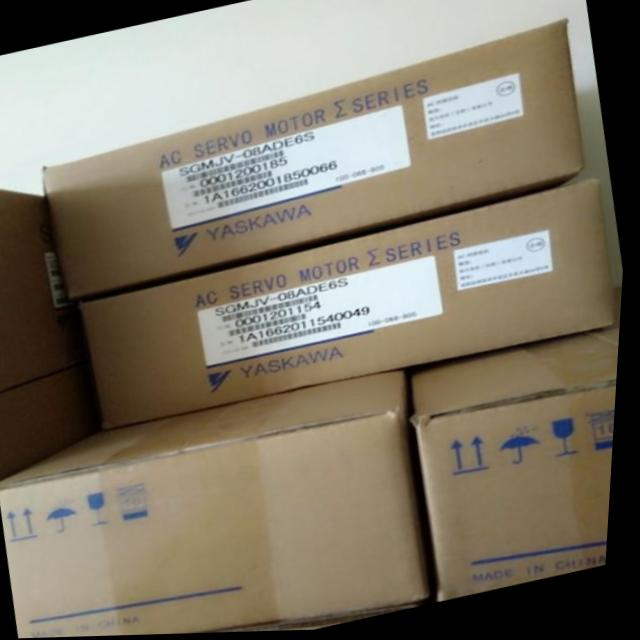box: (47, 20, 587, 298), (85, 181, 625, 431), (4, 374, 438, 639), (418, 329, 624, 603), (0, 188, 107, 483), (231, 603, 438, 634)
